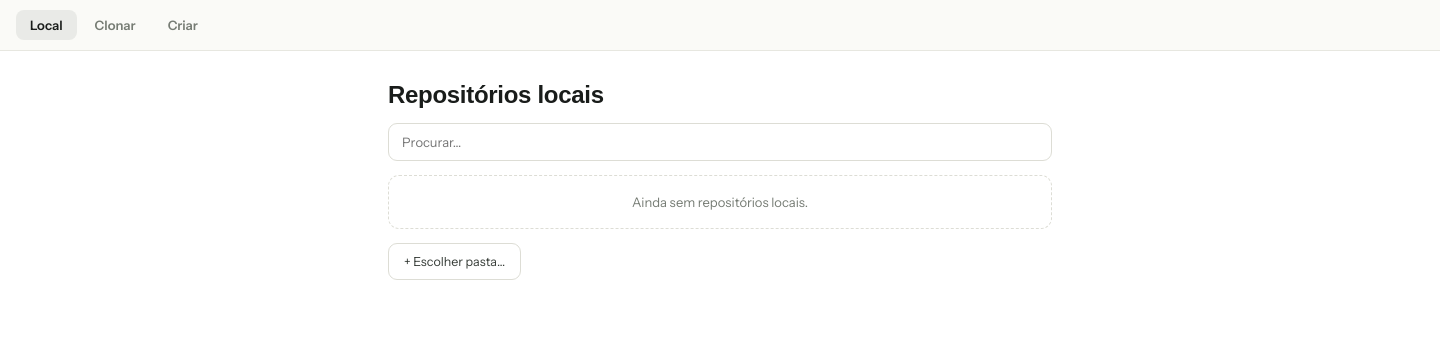
Test case: RepoPicker: labelled inputs › the clone URL and destination-folder inputs have associated labels
The image size is (1440, 355).
Click the button "Clonar": (115, 25) [81,10,150,40]
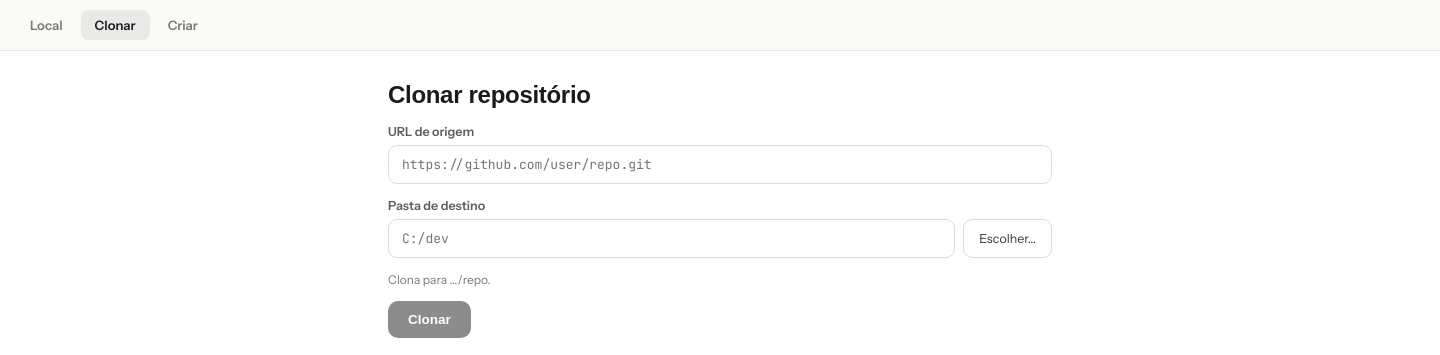
Expected: the field labelled "Pasta de destino" is shown, [388,219,955,258]
Expected: the field labelled "URL de origem" is shown, [388,145,1052,184]
